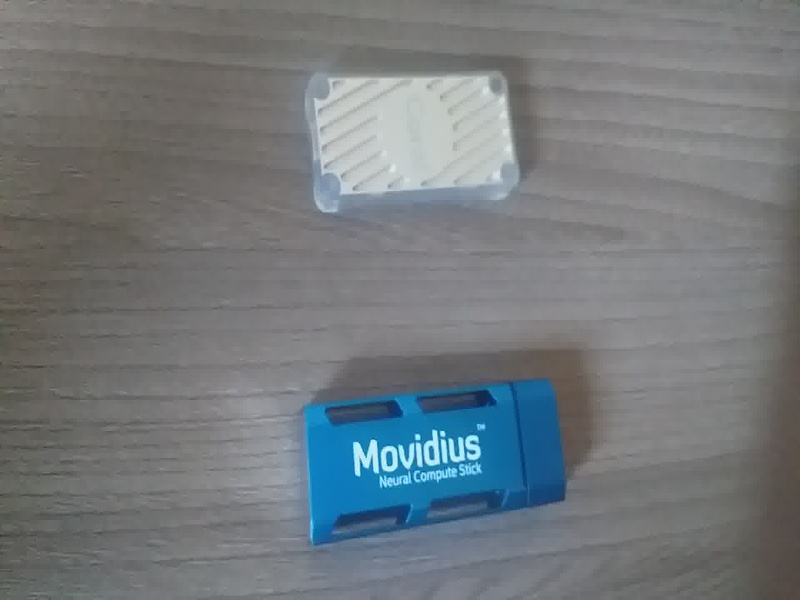coral: (299, 57, 528, 228)
movidius: (293, 376, 577, 543)
